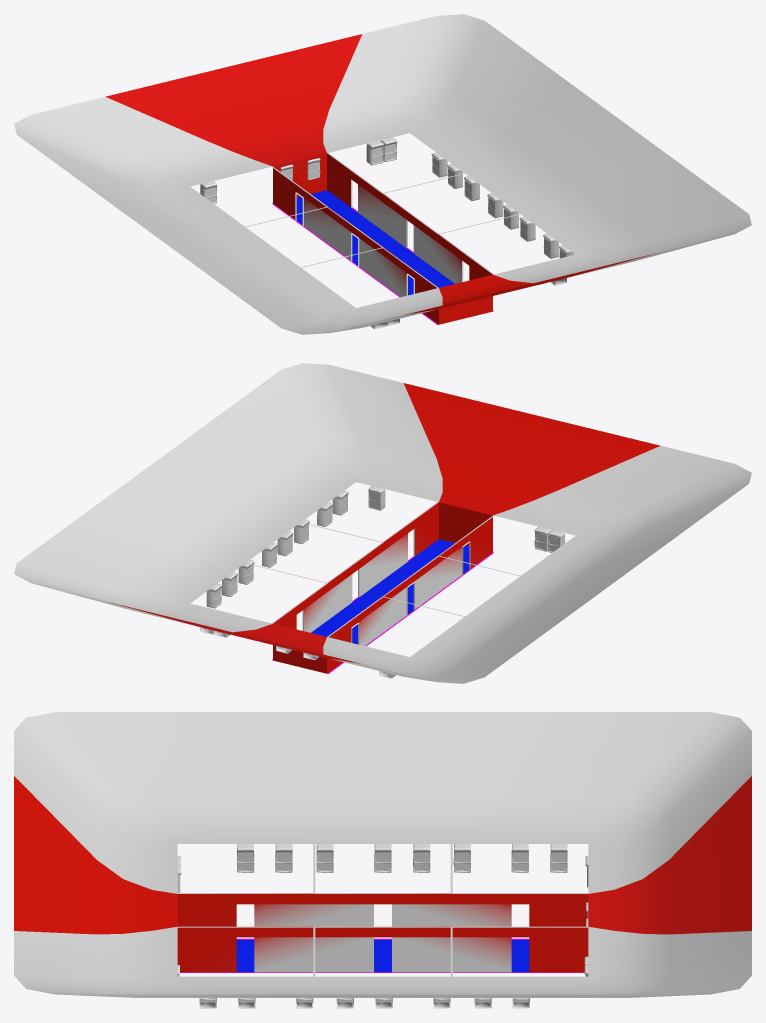
File: Hall_complet_v2.fbx
3 renders of one model, top to bottom at view 1: azimuth 30°, elevation 25°; view 2: azimuth 150°, elevation 25°; view 3: azimuth 270°, elevation 25°, orthographic. The views are drawn at different scales.
Parts seen in each view (by area): view 1: cache_ext, Apartments, Windows, Ground, Windows_sky; view 2: cache_ext, Apartments, Windows, Ground, Windows_sky; view 3: cache_ext, Apartments, Windows, Windows_sky, Ground.
Part boxes in pixels (box(x1,y1,x2,y2)): cache_ext: box(14, 14, 751, 334); Apartments: box(273, 153, 492, 324); Windows: box(200, 137, 574, 329); Ground: box(272, 190, 493, 324); Windows_sky: box(205, 143, 565, 257); cache_ext: box(14, 363, 751, 683); Apartments: box(273, 502, 492, 673); Windows: box(200, 486, 565, 678); Ground: box(272, 539, 493, 673); Windows_sky: box(215, 492, 559, 672); cache_ext: box(14, 712, 751, 997); Apartments: box(177, 894, 588, 972); Windows: box(177, 844, 588, 1008); Windows_sky: box(200, 852, 566, 1003); Ground: box(180, 938, 584, 972).
Size of the model in its own units: 3452 by 585 by 3812.
